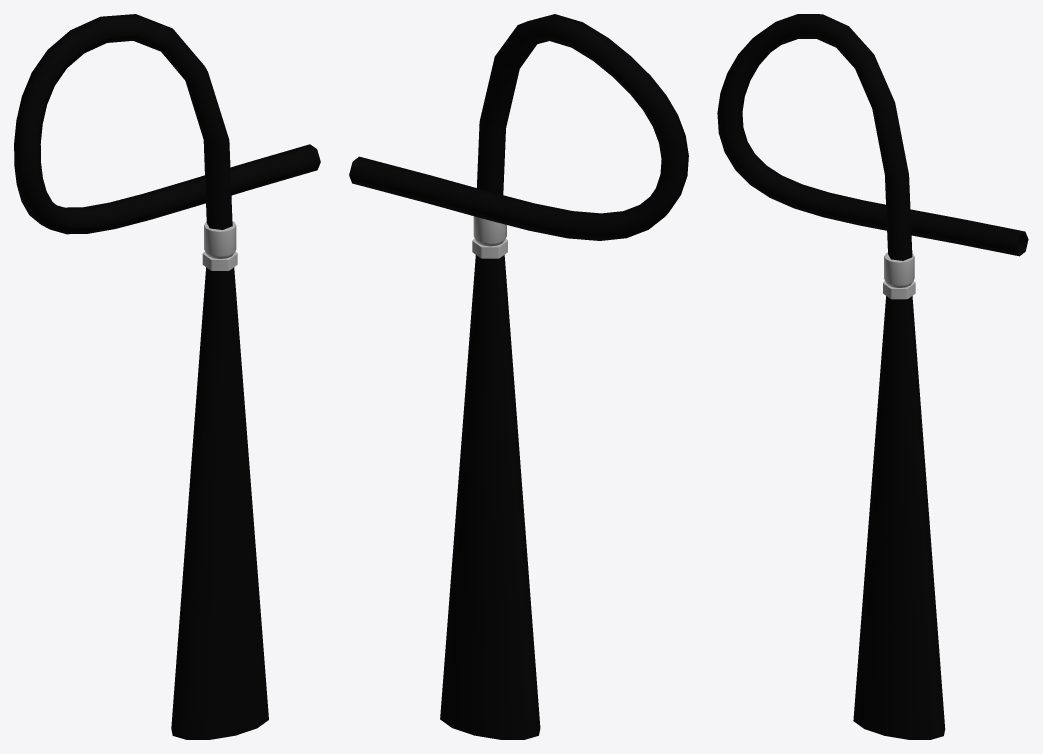
The picture shows the model from 3 angles, left to right: view 1: azimuth 30°, elevation 25°; view 2: azimuth 150°, elevation 25°; view 3: azimuth 330°, elevation 25°; orthographic projection. The views are drawn at different scales.
Visible parts, largest first — view 1: Nozzle_low.001, NurbsPath; view 2: Nozzle_low.001, NurbsPath; view 3: Nozzle_low.001, NurbsPath.
Part boxes in pixels (left/top/right/bottom): Nozzle_low.001: left=171, top=221, right=268, bottom=739; NurbsPath: left=14, top=14, right=320, bottom=234; Nozzle_low.001: left=440, top=216, right=540, bottom=739; NurbsPath: left=349, top=14, right=688, bottom=240; Nozzle_low.001: left=853, top=252, right=945, bottom=739; NurbsPath: left=717, top=14, right=1028, bottom=260.
Size of the model in its own units: 0.2229 by 0.0511 by 0.4931.
